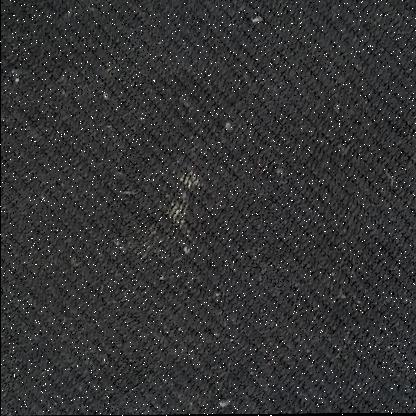spot: (154, 173, 212, 250)
